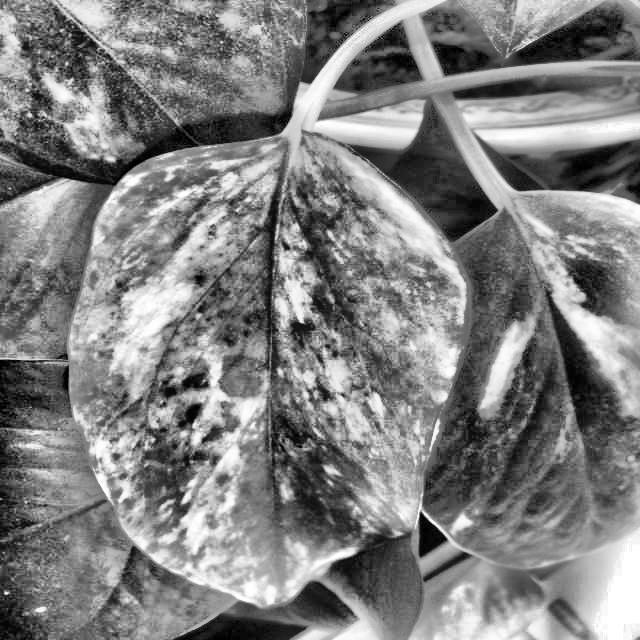plants: (87, 132, 426, 602)
